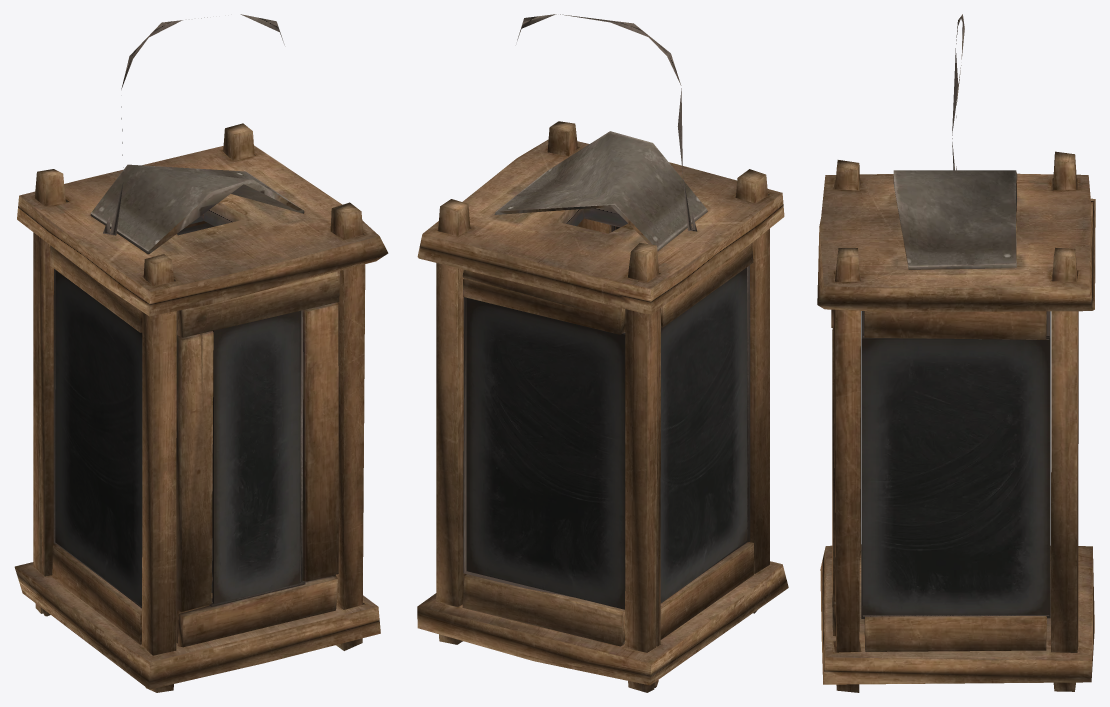
Rendered from wooden_lantern_01.glb.
The picture shows the model from 3 angles, left to right: view 1: azimuth 30°, elevation 25°; view 2: azimuth 150°, elevation 25°; view 3: azimuth 270°, elevation 25°; orthographic projection.
Visible parts, largest first — view 1: wooden_lantern_01, wooden_lantern_01_door, wooden_lantern_01_handle; view 2: wooden_lantern_01, wooden_lantern_01_handle; view 3: wooden_lantern_01, wooden_lantern_01_door, wooden_lantern_01_handle.
Part boxes in pixels (x1=…): wooden_lantern_01: x1=14, y1=123, x2=388, y2=692; wooden_lantern_01_door: x1=176, y1=271, x2=339, y2=647; wooden_lantern_01_handle: x1=103, y1=14, x2=284, y2=235; wooden_lantern_01: x1=417, y1=121, x2=788, y2=692; wooden_lantern_01_handle: x1=517, y1=14, x2=697, y2=231; wooden_lantern_01: x1=817, y1=151, x2=1095, y2=692; wooden_lantern_01_door: x1=831, y1=309, x2=835, y2=636; wooden_lantern_01_handle: x1=952, y1=14, x2=964, y2=170.
Bounding box in the file's own units: 0.2152 × 0.5267 × 0.2168.
Materials: 2 (2 with a texture image).
